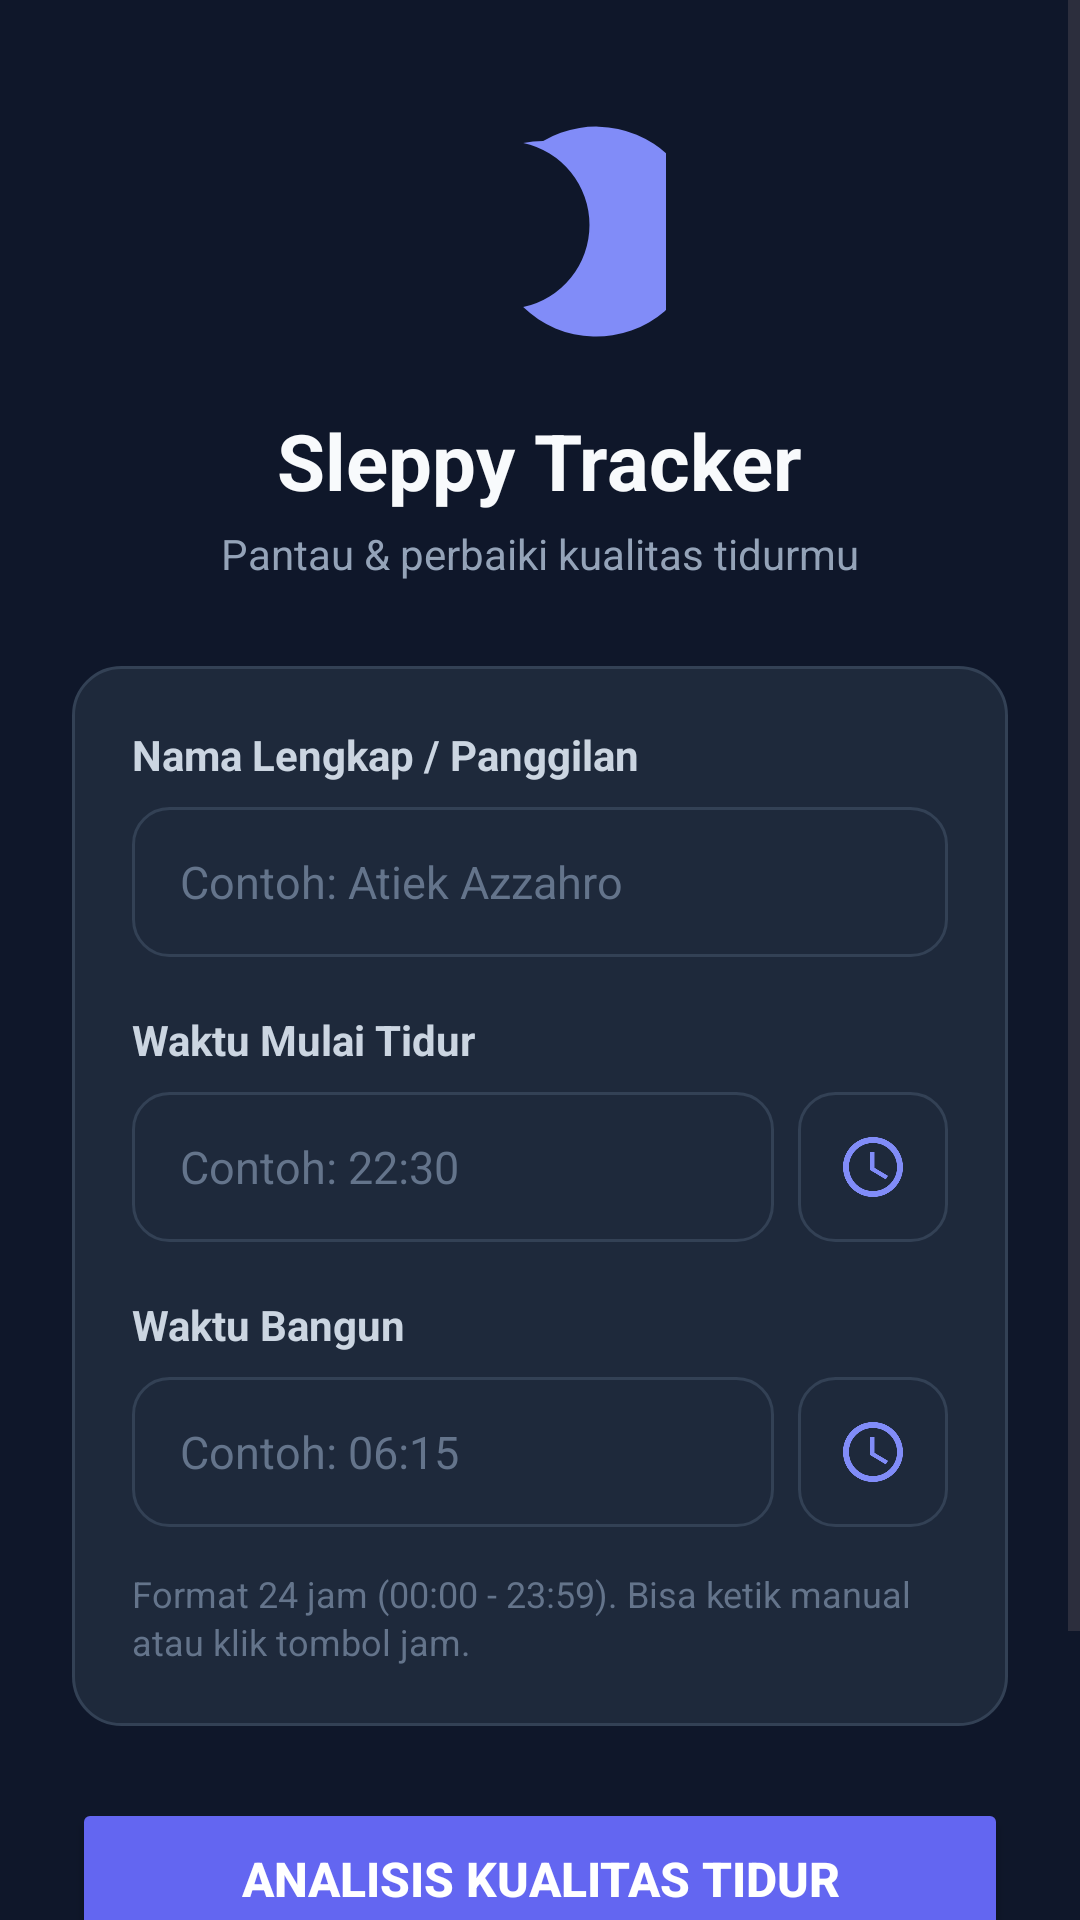

Where icons sit on this 1080*1920 app screen, as (x1, y1, x2, y2):
Pilih Jam Bangun: (798, 1377, 948, 1527)
Pilih Jam Tidur: (798, 1092, 948, 1242)
